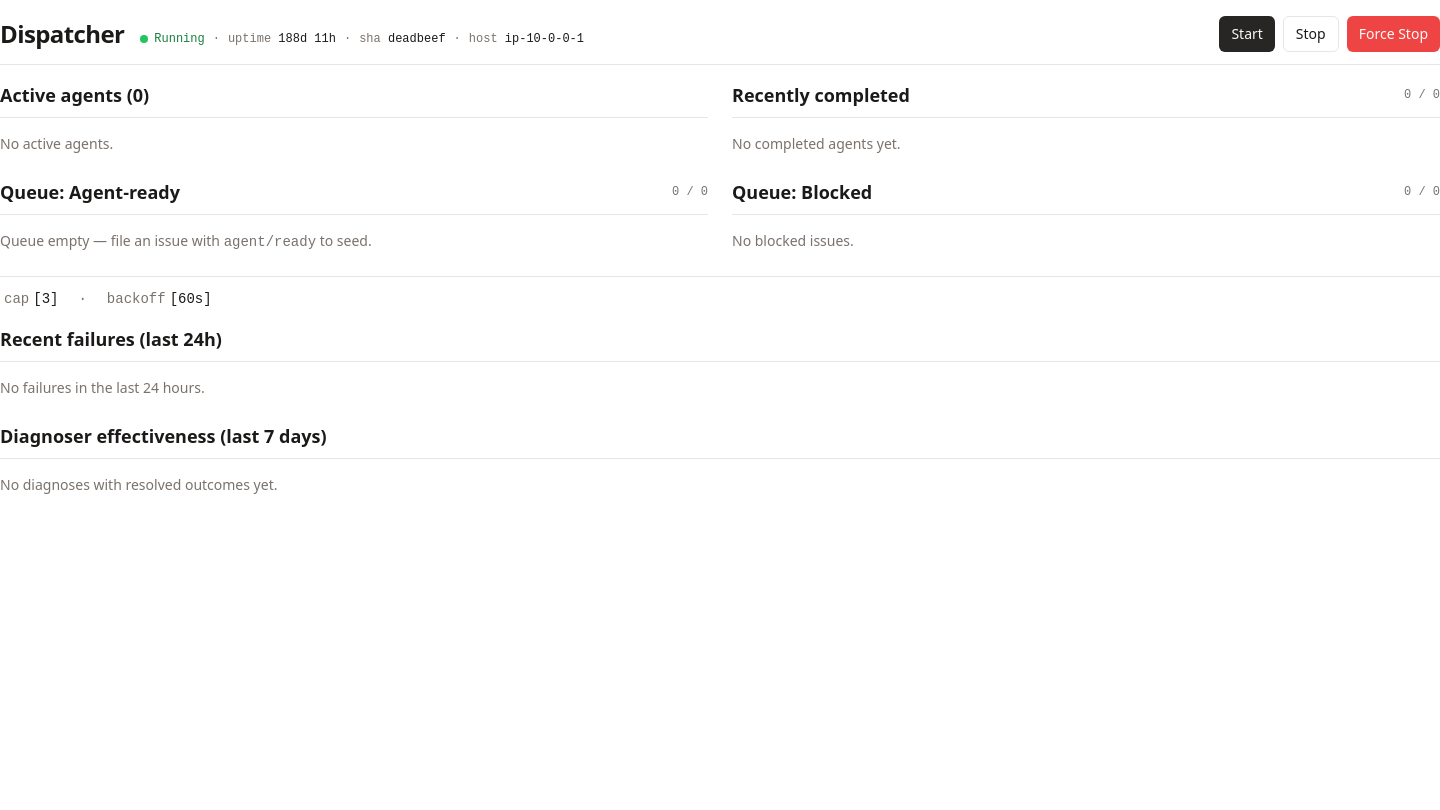
Test: DispatcherDashboard — #3159 expand-count dialog wiring › clicking the Blocked count opens the dialog with the BLOCKED title
This screenshot has width=1440, height=810.
Click the button with test id "queue-blocked-count": (1422,192) 1404,184 -> 1439,200
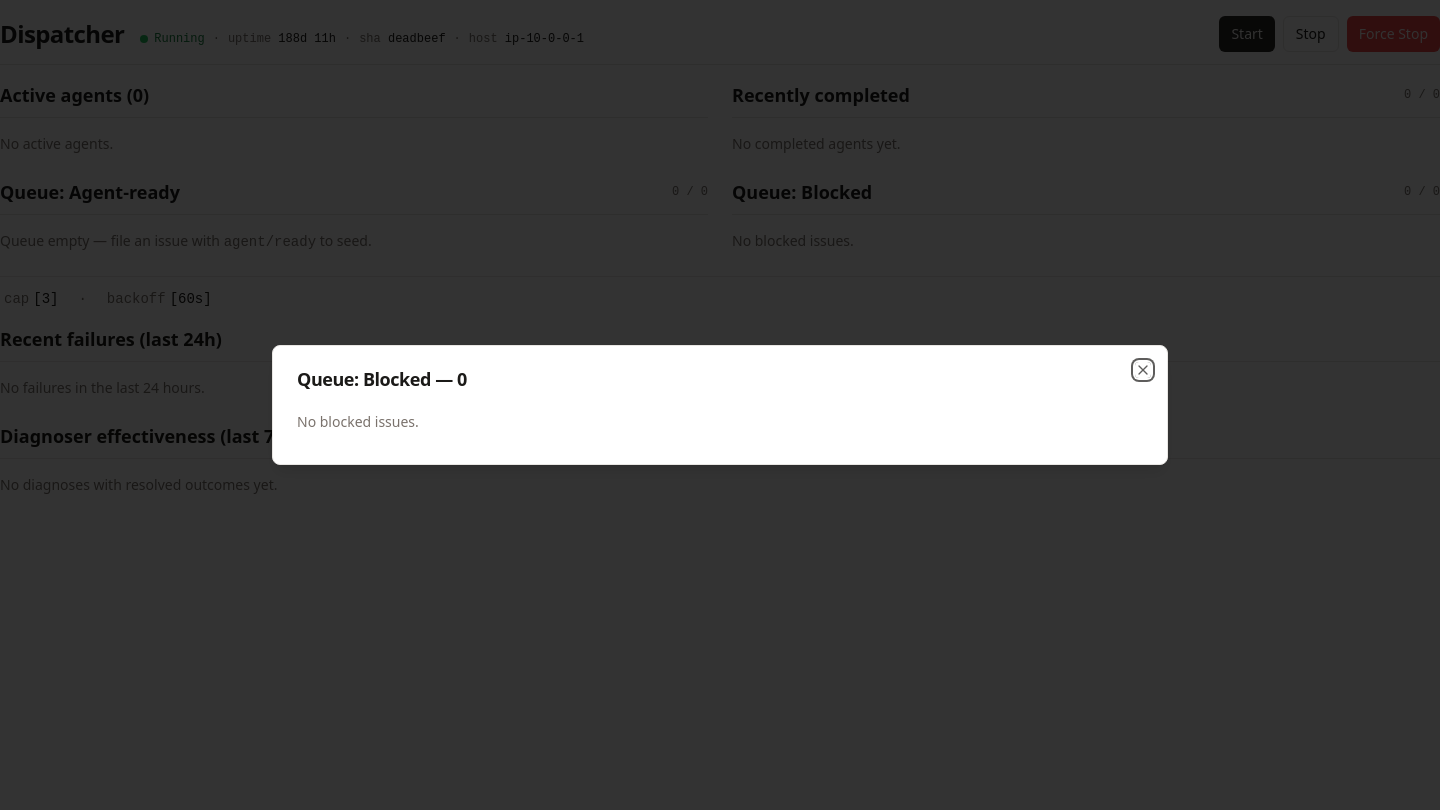
Expected: the heading with test id "queue-full-dialog-title" shows "Queue: Blocked", 297,367 -> 467,391
